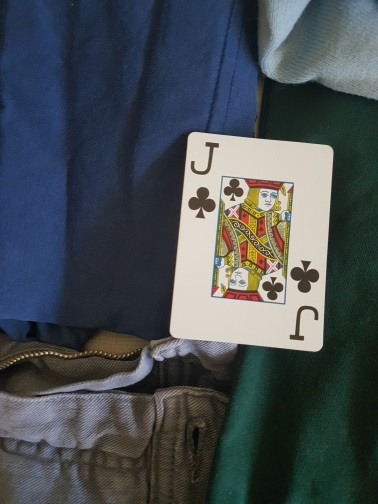jack: (170, 130, 334, 352)
